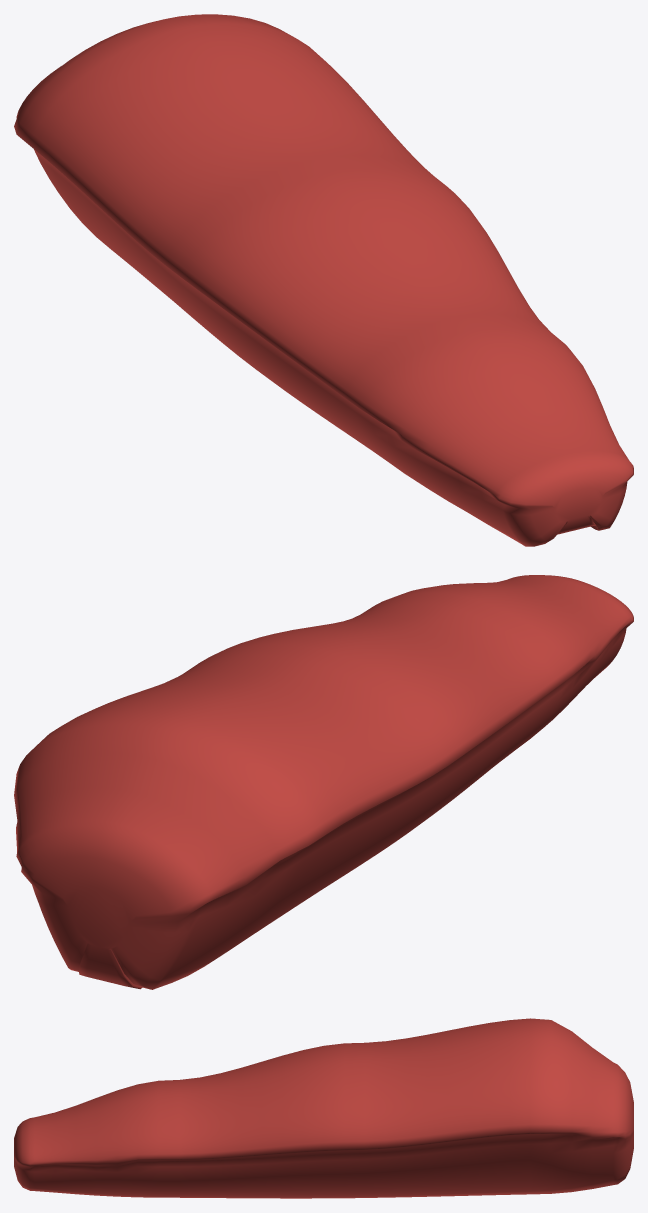
Rendered from adv.glb.
3 renders of one model, top to bottom at view 1: azimuth 30°, elevation 25°; view 2: azimuth 150°, elevation 25°; view 3: azimuth 270°, elevation 25°, orthographic. The views are drawn at different scales.
Parts seen in each view (by area): view 1: lod0; view 2: lod0; view 3: lod0.
Part boxes in pixels (left/top/right/bottom): lod0: left=14, top=14, right=633, bottom=546; lod0: left=14, top=575, right=633, bottom=989; lod0: left=14, top=1018, right=633, bottom=1198.
Size of what is drawn, in the model's own units: 0.3582 by 0.2718 by 1.
